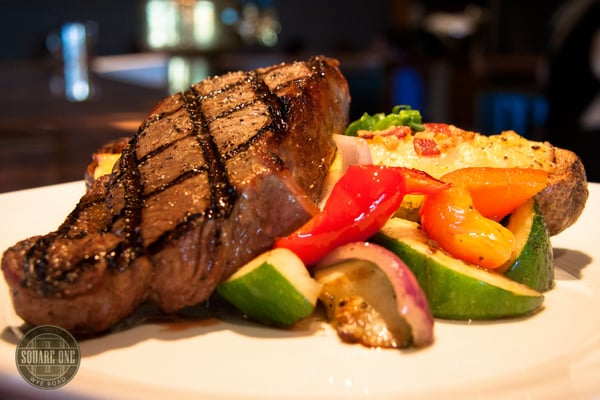soup: (2, 56, 352, 337)
